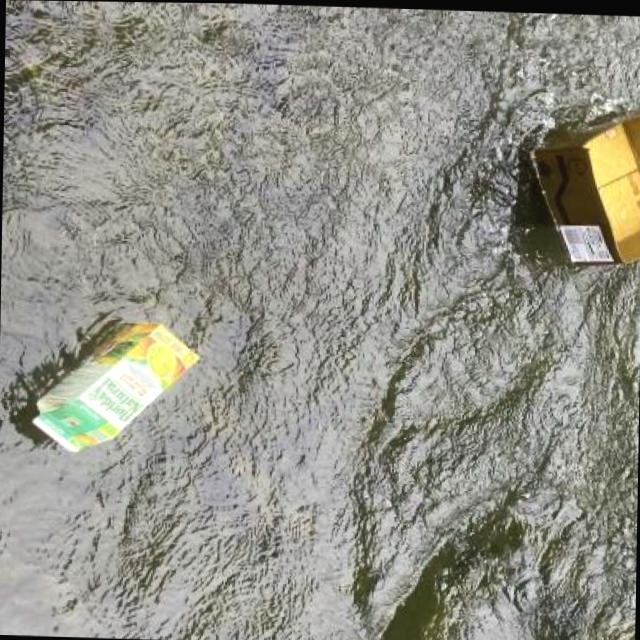Cardboard: (18, 315, 204, 460), (522, 95, 640, 271)
